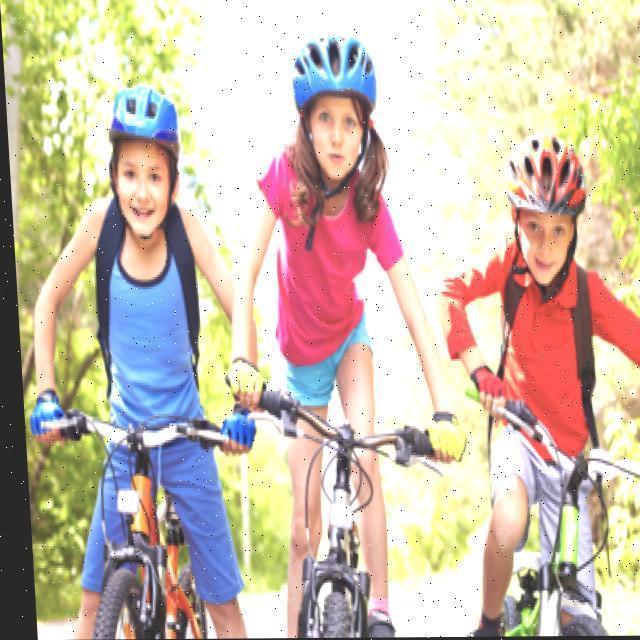Helmet: (493, 128, 597, 309), (94, 70, 196, 254), (290, 36, 380, 178)
